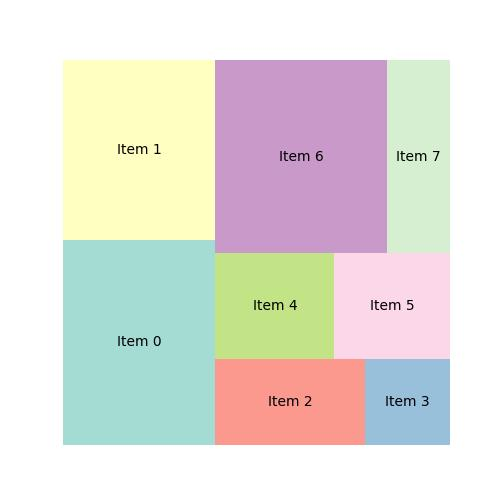rectangle: (215, 59, 387, 252), (63, 239, 216, 445), (62, 59, 214, 240), (215, 251, 332, 361), (385, 56, 449, 252), (334, 252, 449, 361), (216, 363, 366, 444), (364, 359, 450, 443)
